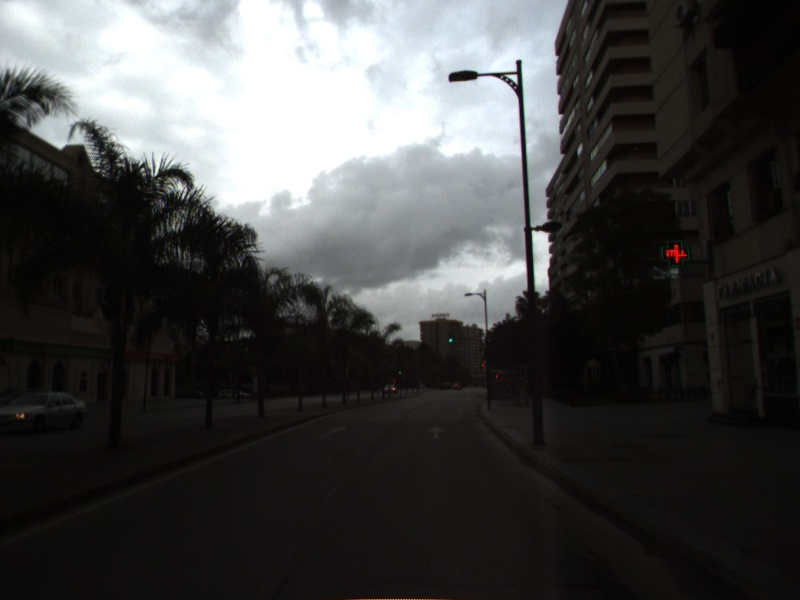STRAIGHT: (317, 423, 351, 441), (424, 423, 449, 441)
